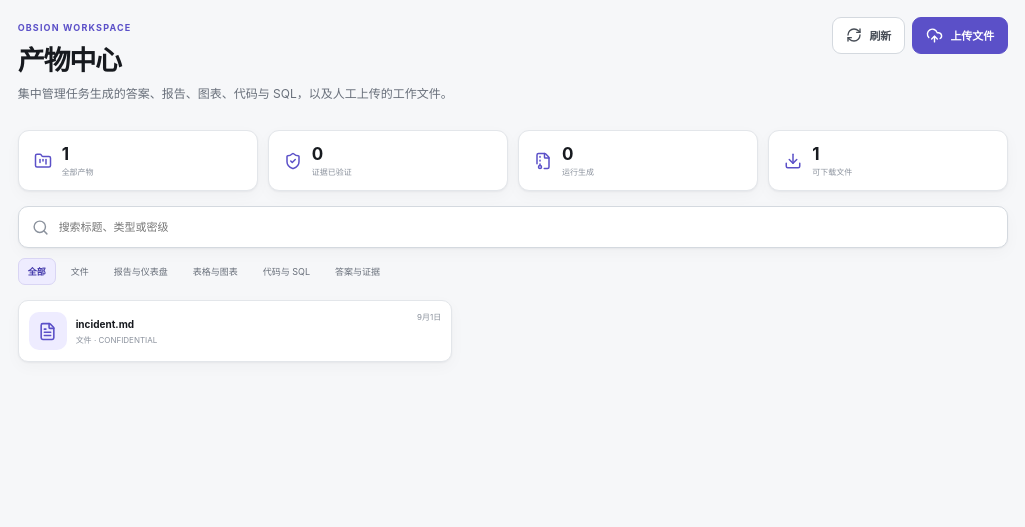
ArtifactsView interactions › refreshes from the workspace projection and preserves a selected artifact by id
Step 1. Click the button "incident.md 文件 · CONFIDENTIAL 9月1日" → (48, 331), box [18,300,452,362]
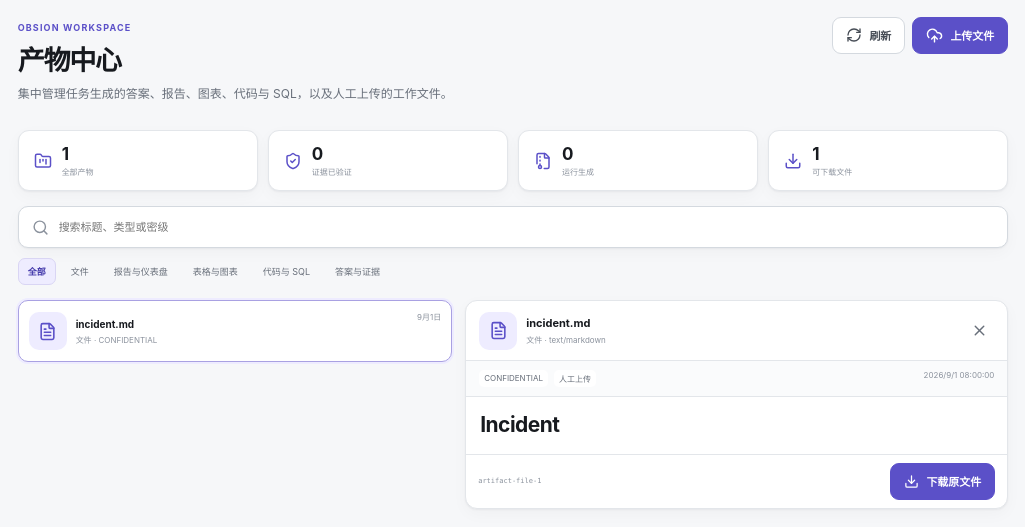
Step 2. Click the button "刷新" → (869, 35), box [832,17,905,54]
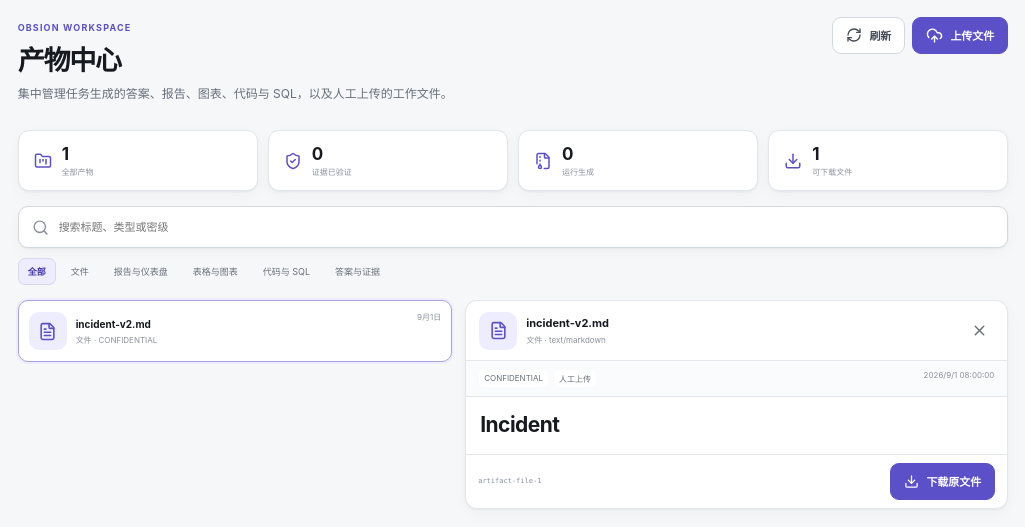
Expected: the button "incident-v2.md 文件 · CONFIDENTIAL 9月1日" is shown, [18,300,452,362]
Expected: the 2nd text "incident-v2.md" is shown, [526,316,609,330]
